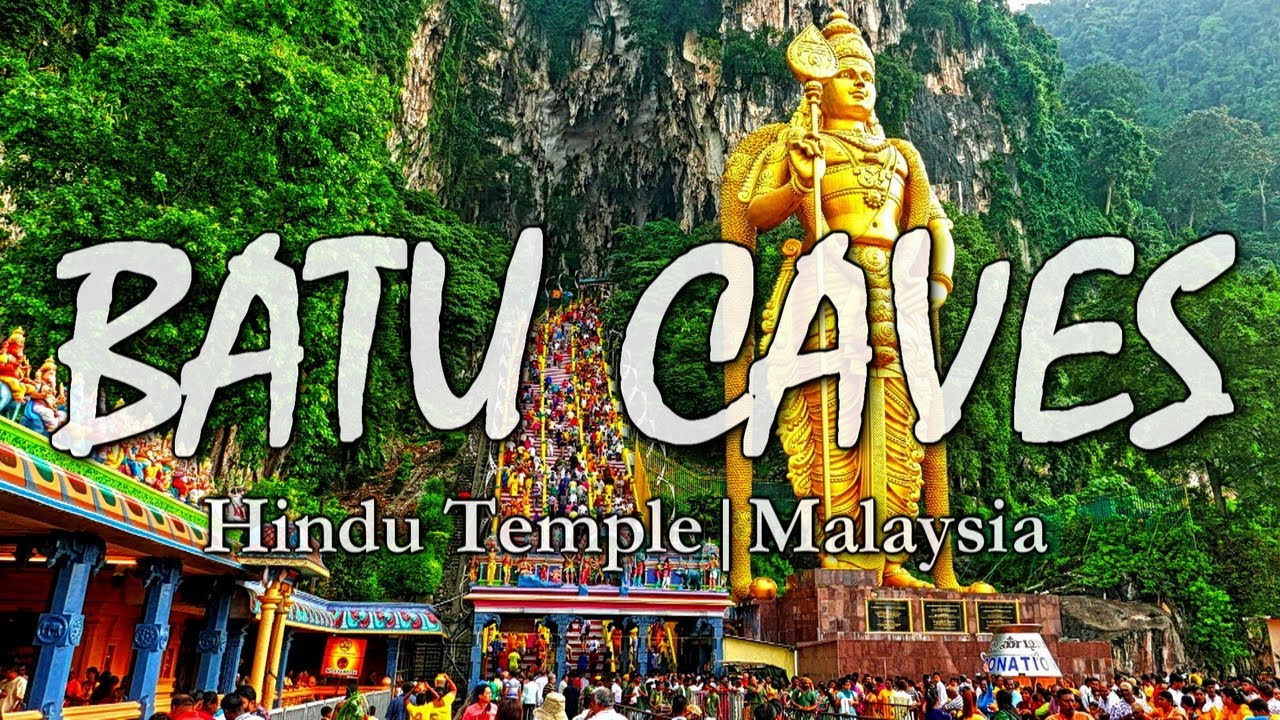Hindu Temple: (709, 10, 976, 575)
